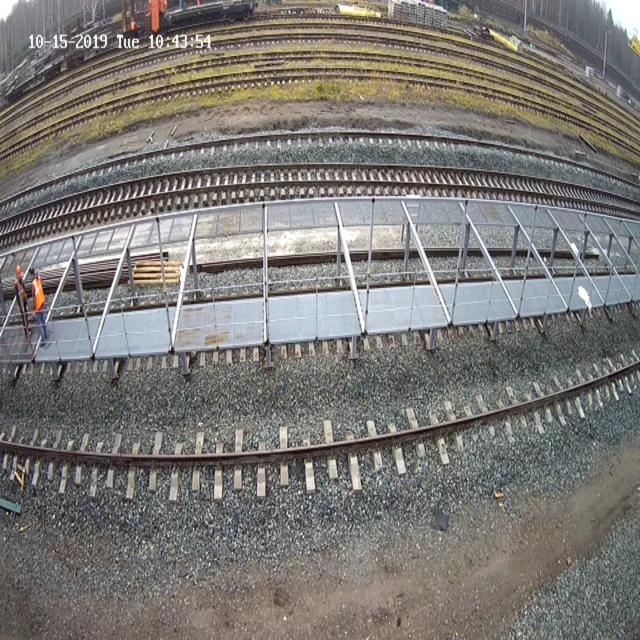Helmet: (16, 265, 22, 275)
Person: (30, 266, 48, 344), (14, 264, 31, 336)
